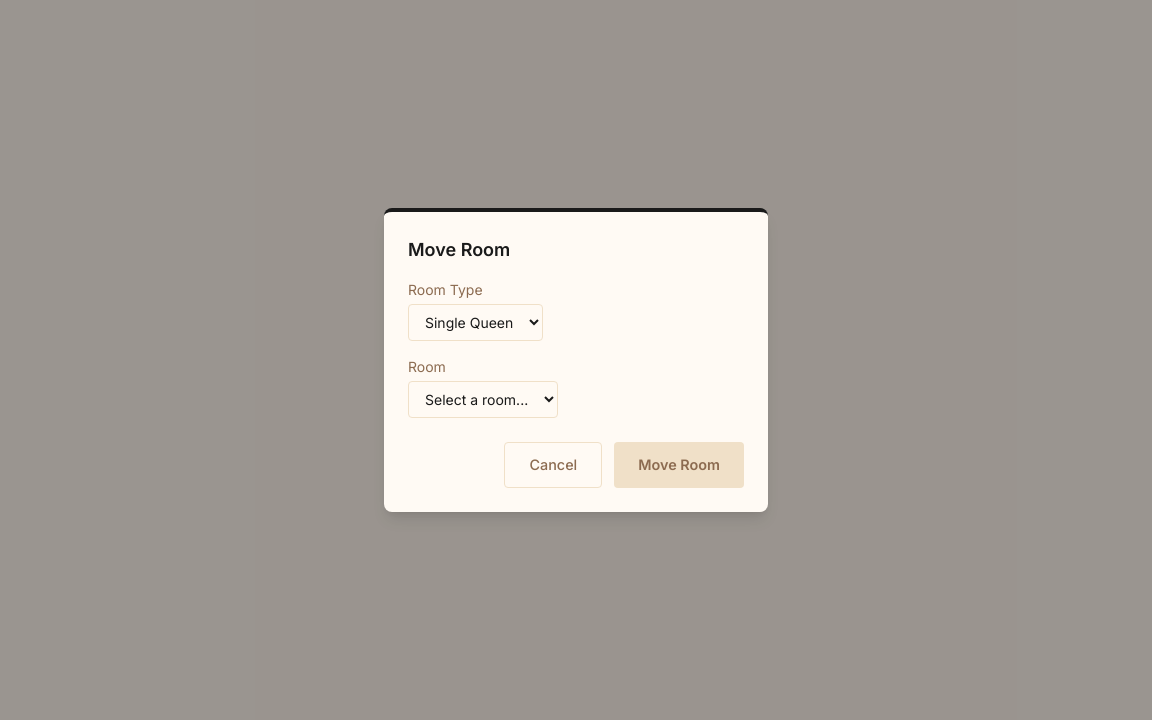
MoveRoomModal › shows a conflict-specific error on a 409
Select "Room 5" in the 2nd dropdown at (483, 400), box 408,381 -> 558,418
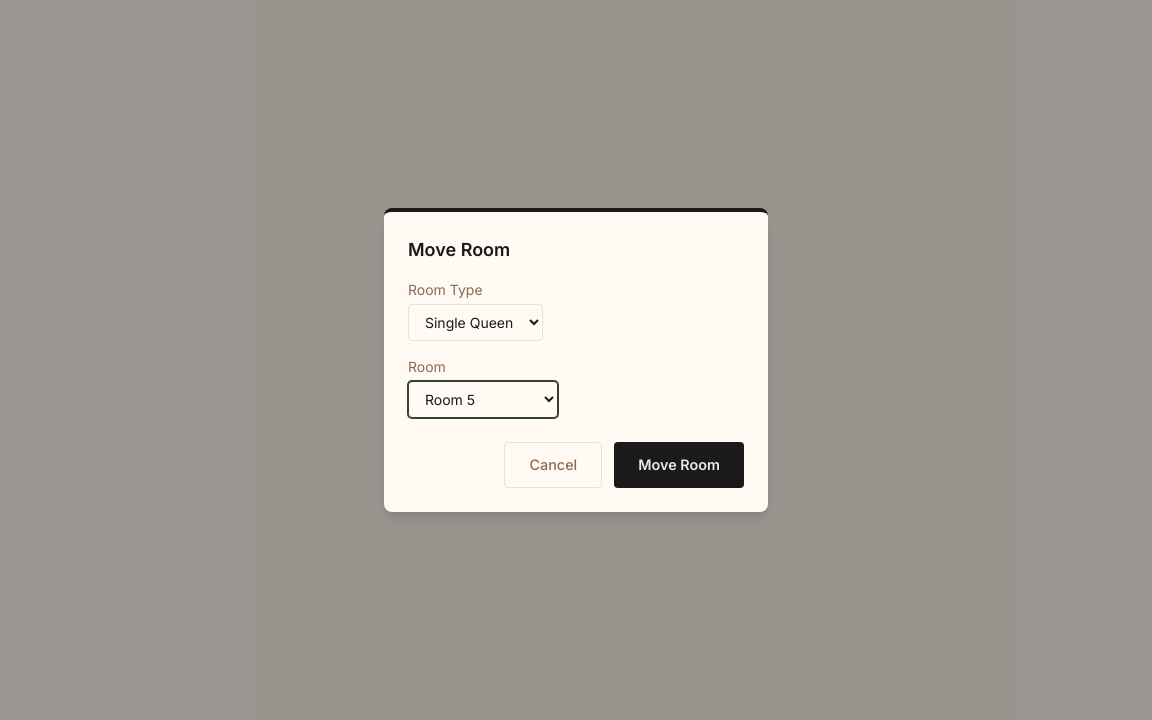
Click the button "Move Room" at (679, 465), box 614,442 -> 744,488
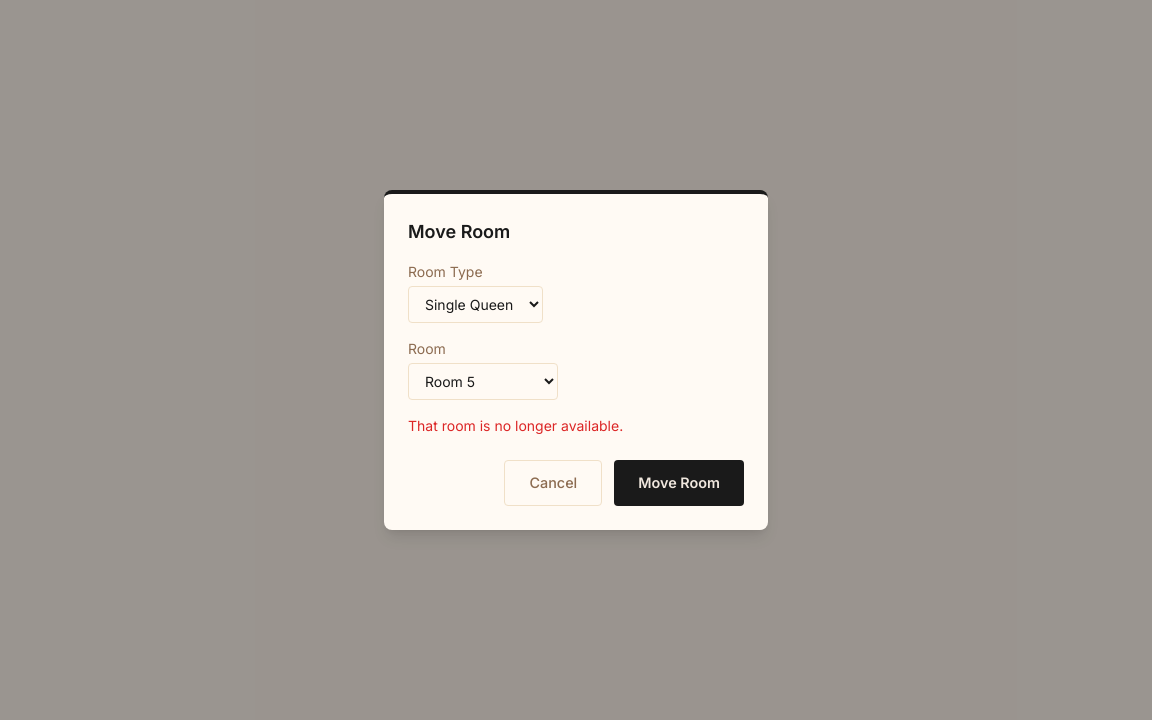
Result: the text "That room is no longer available." is shown at 408,417 -> 623,434
